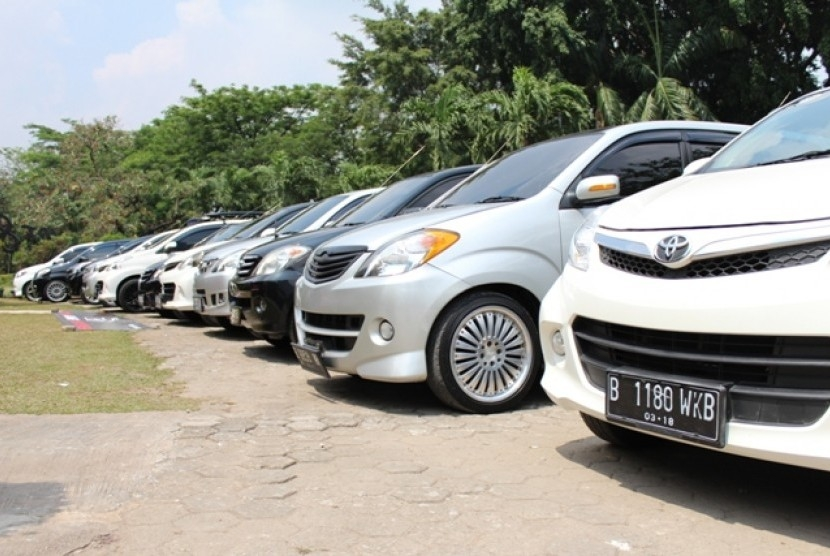plate: (605, 371, 719, 441)
